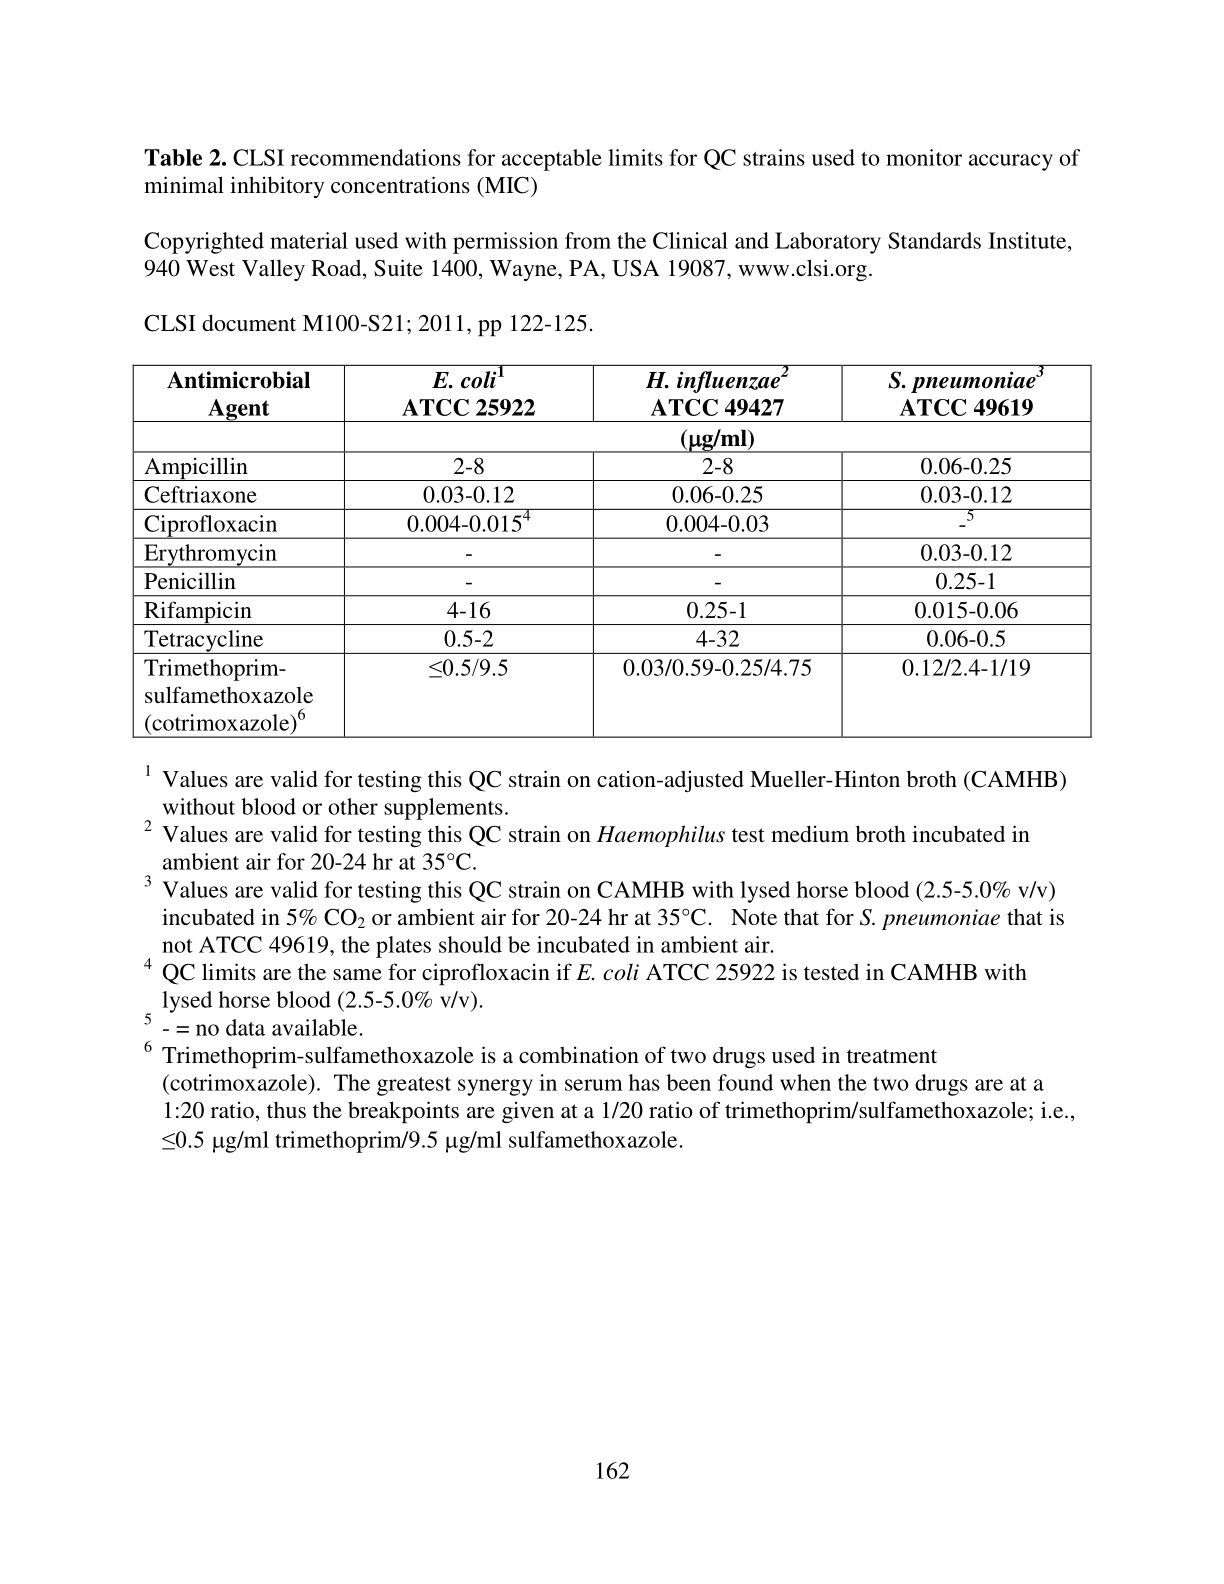merged_cells: (131, 363, 1094, 741)
